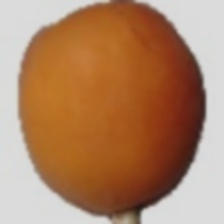apricot: (30, 45, 199, 201)
